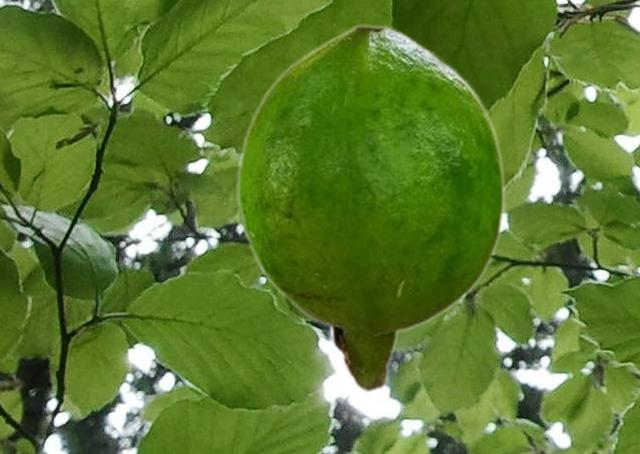guava: (236, 23, 505, 393)
